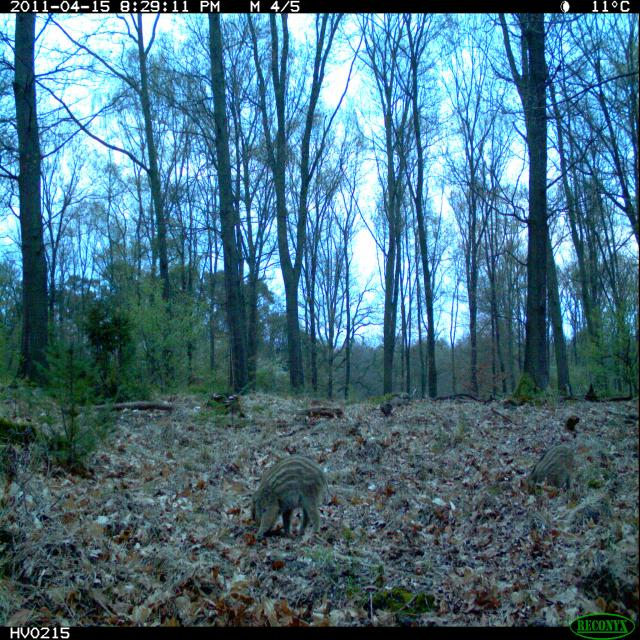boar: (228, 422, 341, 560), (506, 417, 585, 511)
